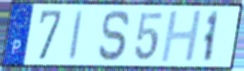1: (203, 9, 221, 65)
5: (133, 10, 165, 62)
7: (37, 8, 63, 61)
H: (158, 8, 204, 65)
I: (67, 9, 85, 63)
S: (96, 9, 132, 63)
